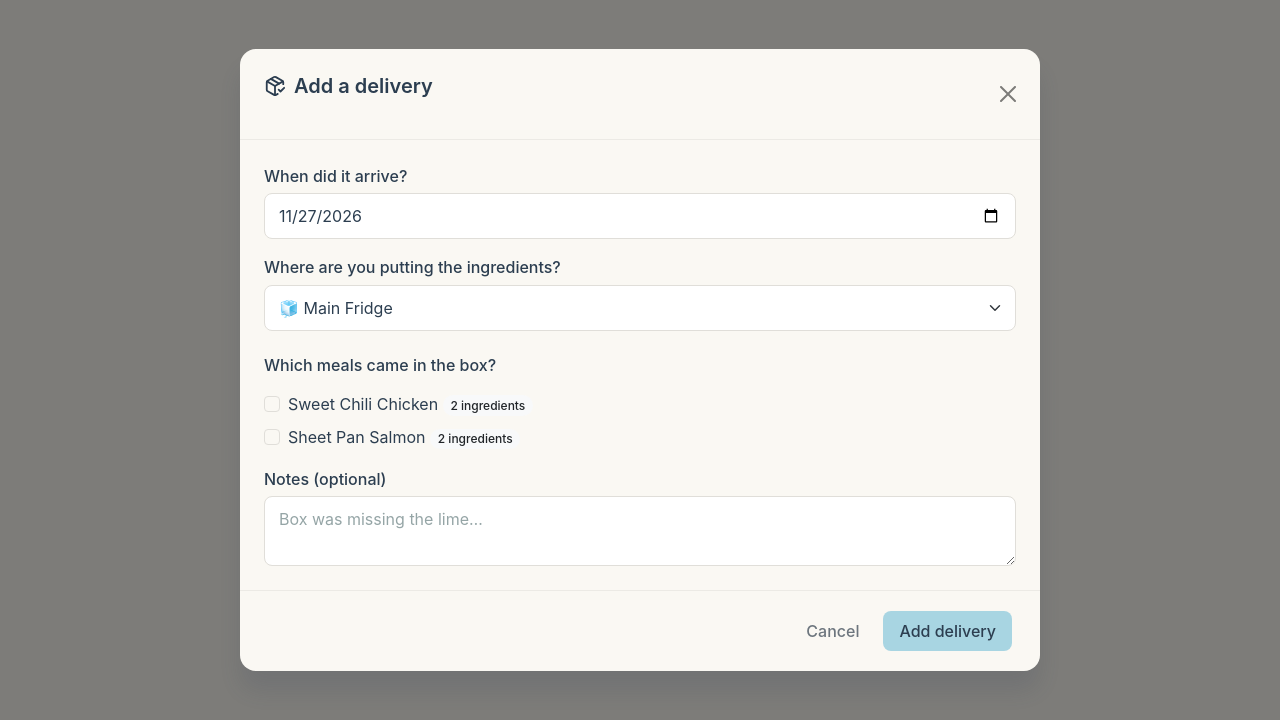
it: stays open and explains itself when the write fails
What coordinates should you click on to do the following:
click the checkbox labelled "Sweet Chili Chicken 2 ingredients"
I would click on:
 (272, 404)
Its box is [264,396,280,412].
(page scrolled)
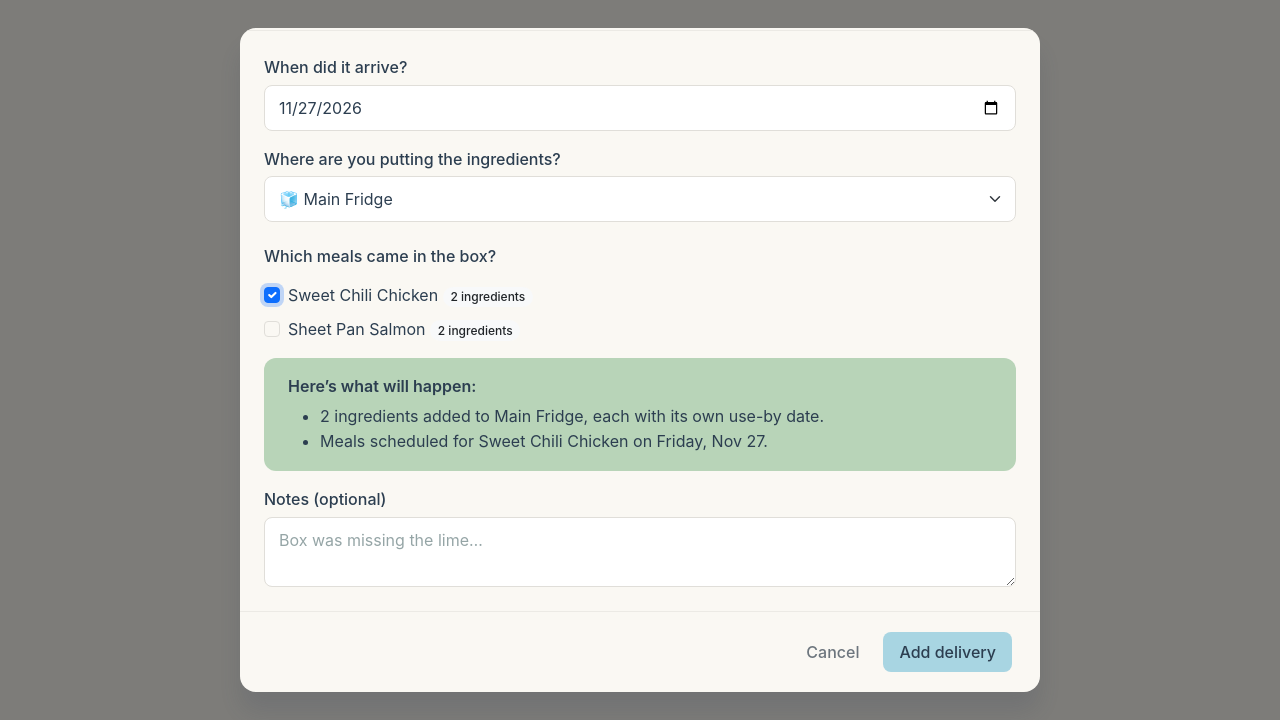
What coordinates should you click on to do the following:
click the button "Add delivery"
I would click on:
 (948, 652)
Its box is [884,632,1012,672].
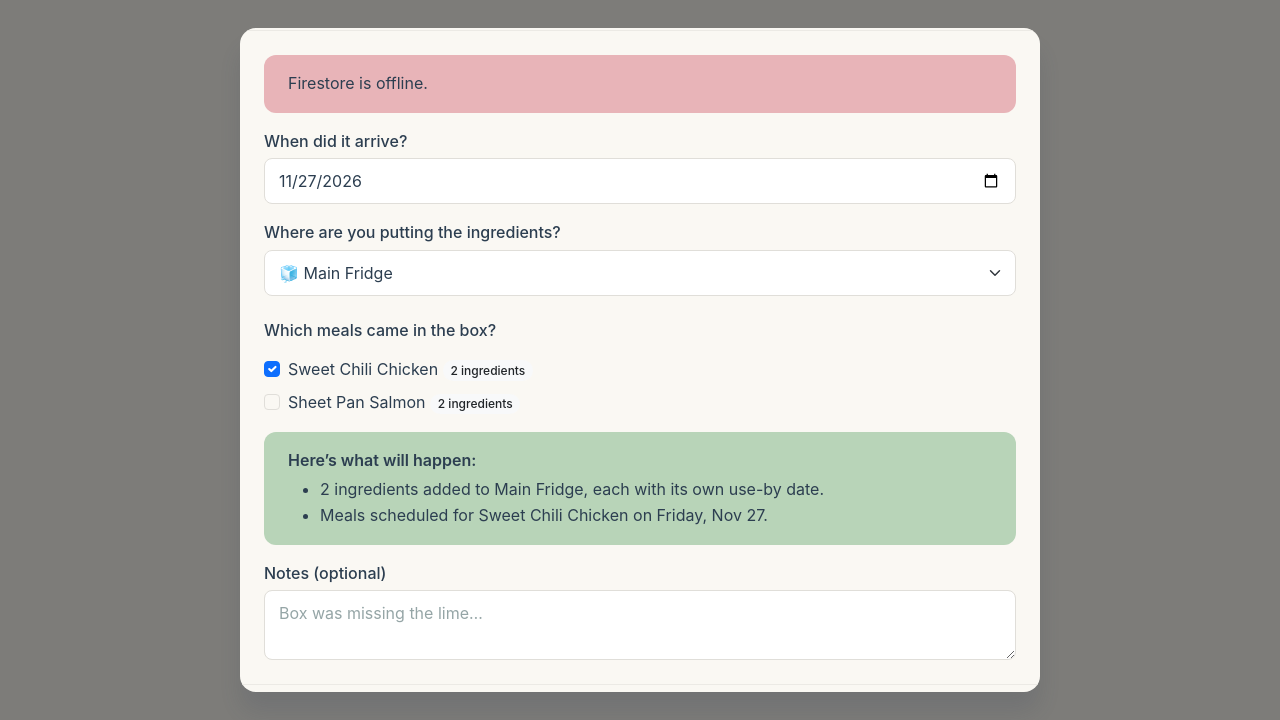
Expected: the text "Firestore is offline." is shown, [264,55,1016,113]
